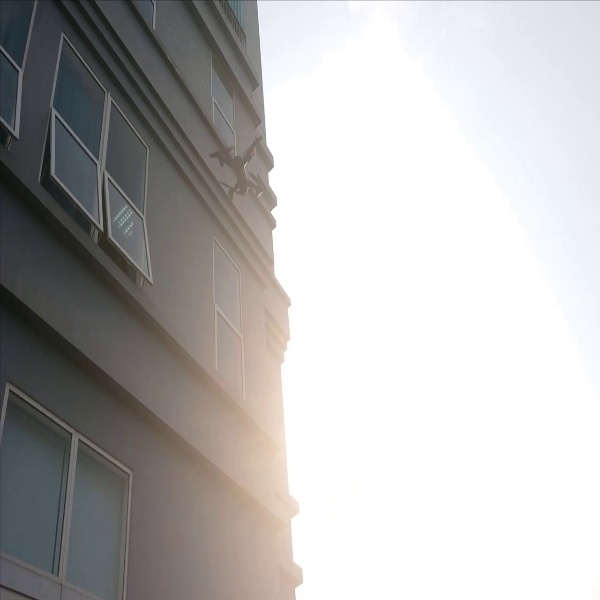drone: (203, 134, 283, 214)
